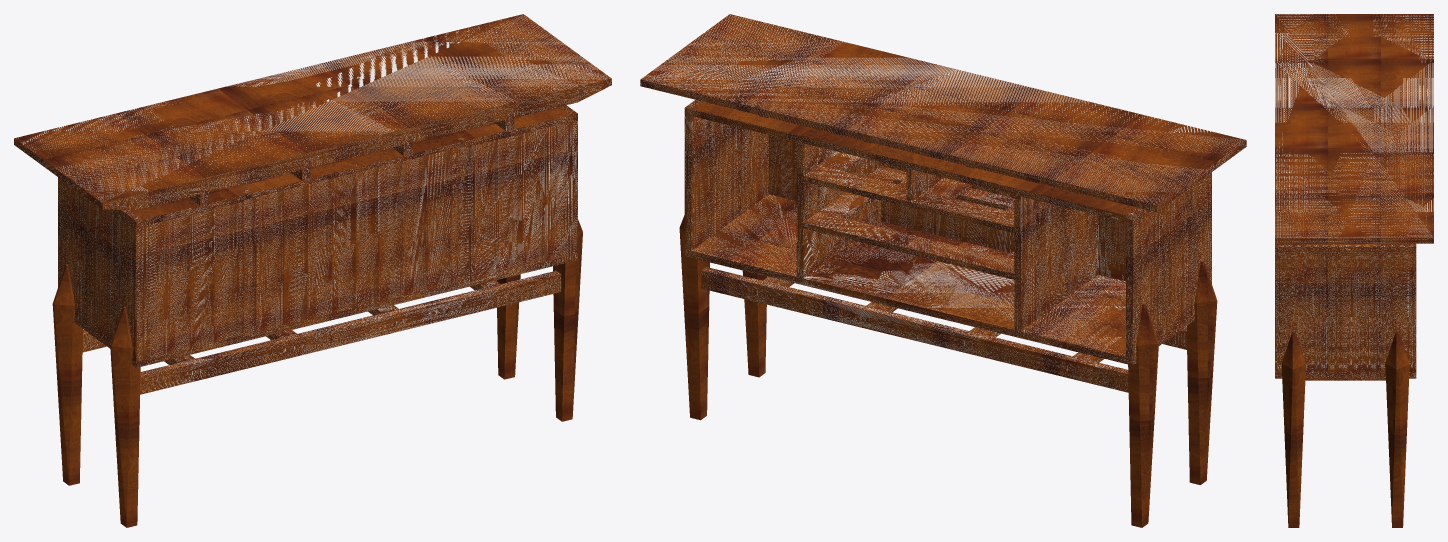
3 views of the same model, side by side, from view 1: azimuth 30°, elevation 25°; view 2: azimuth 150°, elevation 25°; view 3: azimuth 270°, elevation 25° (orthographic). The views are drawn at different scales.
Parts seen in each view (by area): view 1: mesh6_mesh6-geometry, mesh42_mesh42-geometry, mesh37_mesh37-geometry, mesh3_mesh3-geometry, mesh2_mesh2-geometry, mesh7_mesh7-geometry, mesh4_mesh4-geometry, mesh41_mesh41-geometry, mesh38_mesh38-geometry, mesh1_mesh1-geometry, mesh36_mesh36-geometry, mesh5_mesh5-geometry (+3 smaller); view 2: mesh6_mesh6-geometry, mesh1_mesh1-geometry, mesh2_mesh2-geometry, mesh3_mesh3-geometry, mesh7_mesh7-geometry, mesh4_mesh4-geometry, mesh13_mesh13-geometry, mesh25_mesh25-geometry, mesh23_mesh23-geometry, mesh42_mesh42-geometry, mesh11_mesh11-geometry, mesh9_mesh9-geometry (+6 smaller); view 3: mesh6_mesh6-geometry, mesh2_mesh2-geometry, mesh3_mesh3-geometry, mesh4_mesh4-geometry, mesh1_mesh1-geometry, mesh8_mesh8-geometry.
Boxes of the visible parts, x1,y1,x2,y2 form: mesh6_mesh6-geometry: [14, 14, 611, 210]; mesh42_mesh42-geometry: [260, 149, 450, 330]; mesh37_mesh37-geometry: [166, 128, 546, 353]; mesh3_mesh3-geometry: [52, 219, 582, 527]; mesh2_mesh2-geometry: [58, 105, 577, 366]; mesh7_mesh7-geometry: [82, 270, 561, 394]; mesh4_mesh4-geometry: [112, 105, 577, 227]; mesh41_mesh41-geometry: [243, 145, 470, 336]; mesh38_mesh38-geometry: [546, 121, 571, 260]; mesh1_mesh1-geometry: [76, 253, 577, 367]; mesh36_mesh36-geometry: [142, 220, 166, 359]; mesh5_mesh5-geometry: [189, 111, 514, 207]; mesh6_mesh6-geometry: [640, 14, 1246, 212]; mesh1_mesh1-geometry: [684, 194, 1192, 365]; mesh2_mesh2-geometry: [684, 100, 1211, 364]; mesh3_mesh3-geometry: [679, 215, 1217, 527]; mesh7_mesh7-geometry: [701, 267, 1186, 392]; mesh4_mesh4-geometry: [684, 100, 1149, 223]; mesh13_mesh13-geometry: [1035, 200, 1098, 319]; mesh25_mesh25-geometry: [800, 212, 1016, 280]; mesh23_mesh23-geometry: [800, 165, 1016, 233]; mesh42_mesh42-geometry: [889, 164, 1014, 252]; mesh11_mesh11-geometry: [1014, 190, 1035, 335]; mesh9_mesh9-geometry: [796, 137, 817, 282]; mesh6_mesh6-geometry: [1275, 14, 1433, 243]; mesh2_mesh2-geometry: [1275, 244, 1416, 378]; mesh3_mesh3-geometry: [1281, 330, 1409, 527]; mesh4_mesh4-geometry: [1275, 243, 1416, 252]; mesh1_mesh1-geometry: [1275, 370, 1416, 378]; mesh8_mesh8-geometry: [1305, 378, 1385, 380].
Bounding box in the file's own units: 0.8185 × 0.5193 × 0.2456.
